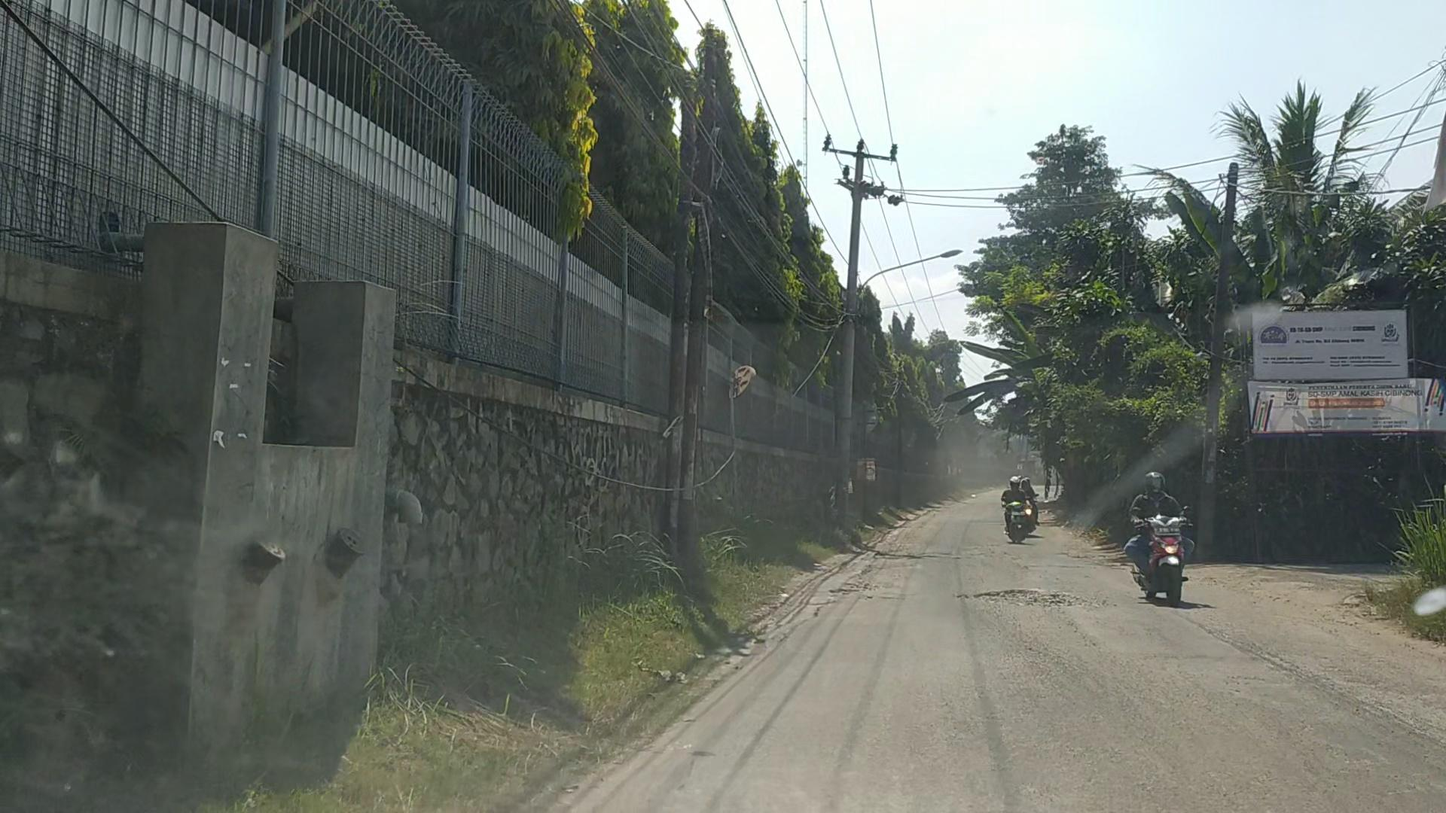pothole: (977, 588, 1090, 609)
